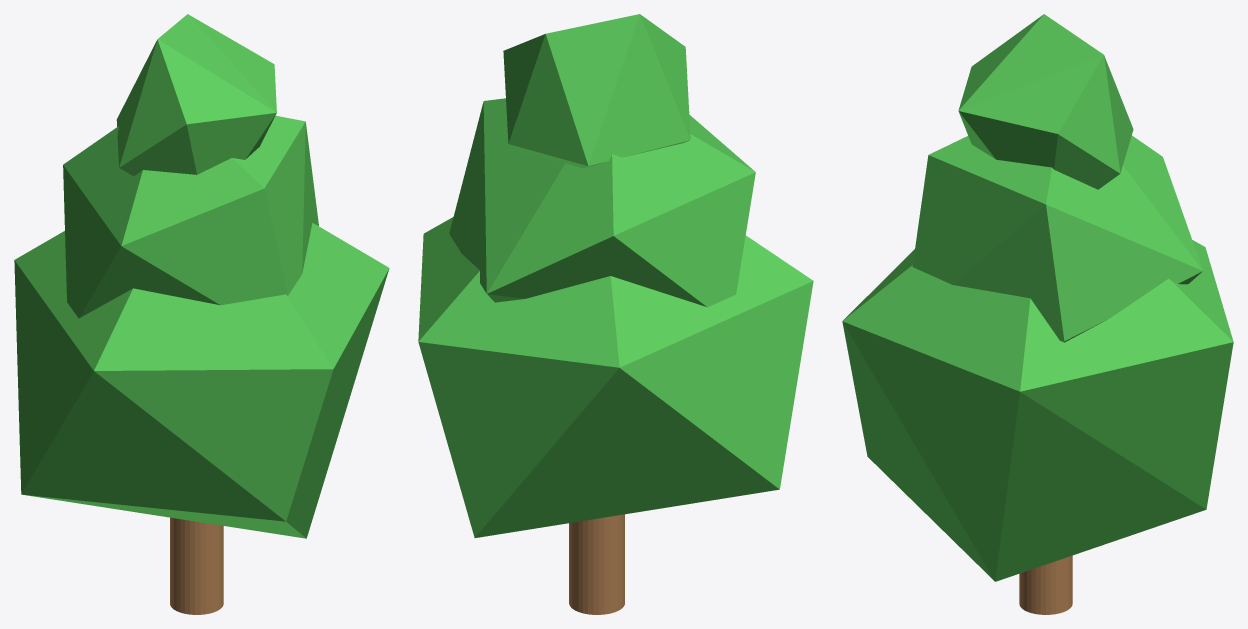
The model's file is tree1.glb.
The picture shows the model from 3 angles, left to right: view 1: azimuth 30°, elevation 25°; view 2: azimuth 150°, elevation 25°; view 3: azimuth 270°, elevation 25°; orthographic projection. The views are drawn at different scales.
Visible parts, largest first — view 1: Leaves, Leaves.001, Leaves.002, Trunk; view 2: Leaves, Leaves.001, Leaves.002, Trunk; view 3: Leaves, Leaves.001, Leaves.002, Trunk.
Boxes of the visible parts, bbox=[...] form: Leaves: bbox=[14, 222, 389, 538]; Leaves.001: bbox=[63, 115, 318, 318]; Leaves.002: bbox=[116, 14, 276, 176]; Trunk: bbox=[170, 517, 223, 614]; Leaves: bbox=[418, 217, 813, 537]; Leaves.001: bbox=[449, 98, 755, 307]; Leaves.002: bbox=[503, 14, 690, 167]; Trunk: bbox=[569, 514, 624, 614]; Leaves: bbox=[842, 240, 1233, 581]; Leaves.001: bbox=[912, 135, 1202, 342]; Leaves.002: bbox=[958, 14, 1133, 189]; Trunk: bbox=[1019, 555, 1072, 614].
Bounding box in the file's own units: 3.05 × 4.72 × 2.93.
